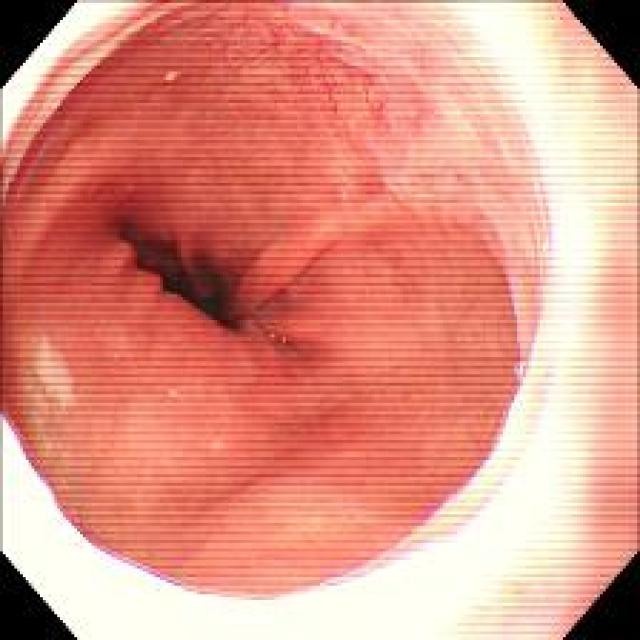contrast: (118, 214, 245, 330)
saturation: (444, 0, 639, 540), (91, 540, 638, 638), (290, 0, 450, 192), (1, 0, 162, 175), (0, 418, 90, 639)
